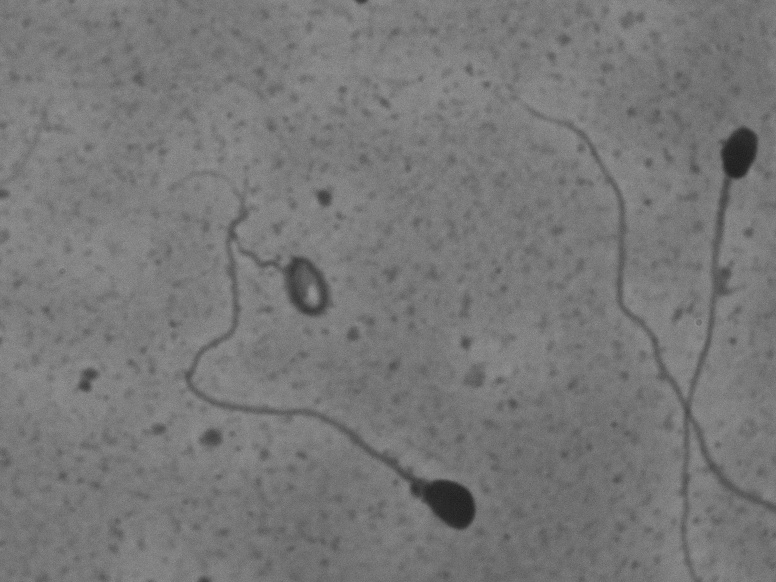Abnormal: (126, 130, 520, 552), (658, 89, 764, 566)
